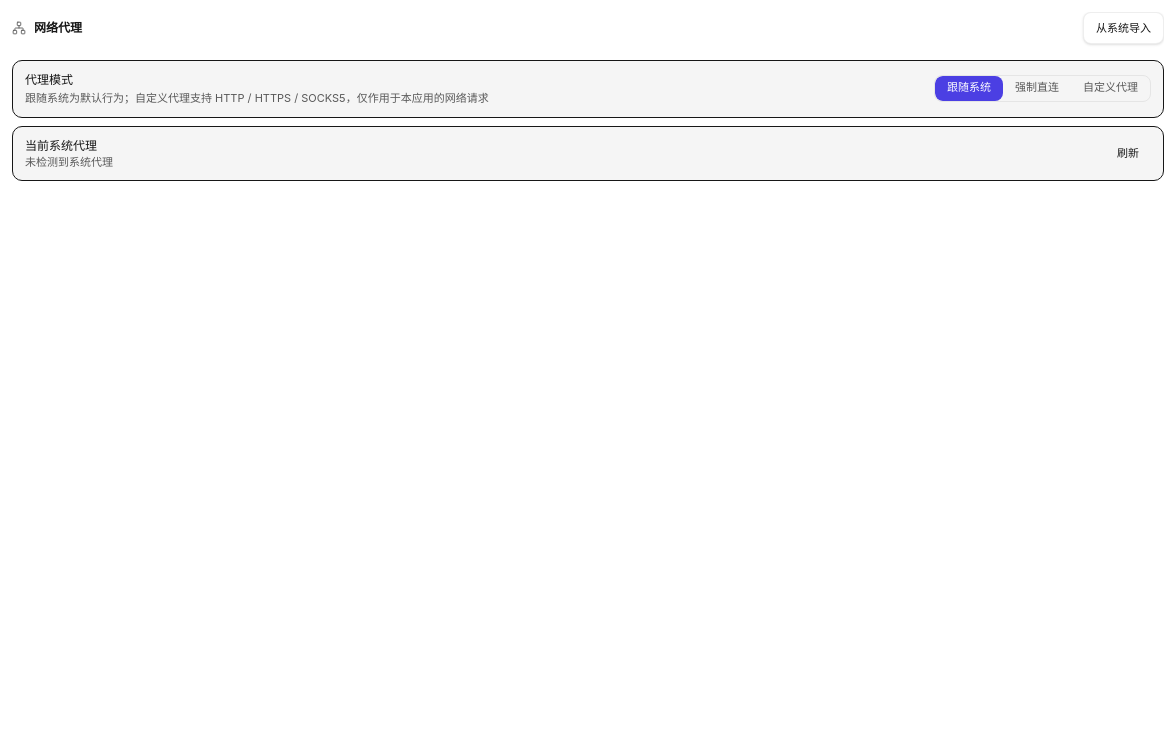
Test: ProxySection › 切换到 fixed → 协议/主机/端口/认证/绕过/测试展开
The image size is (1176, 732).
Click the radio button "自定义代理". click: (1110, 89)
box: [1071,76,1150,101]
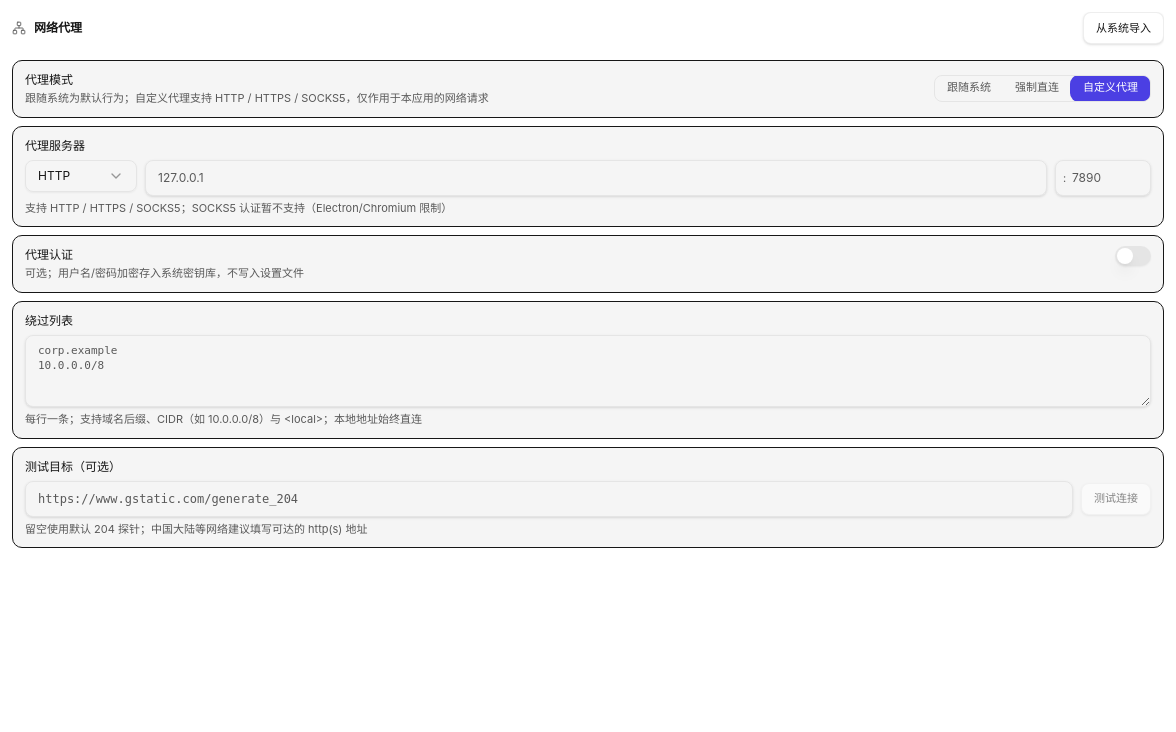
Expected: the dropdown named "协议" is shown, [25,160,137,192]
Expected: the field named "主机" is shown, [145,160,1047,196]
Expected: the number field named "端口" is shown, [1055,160,1151,196]
